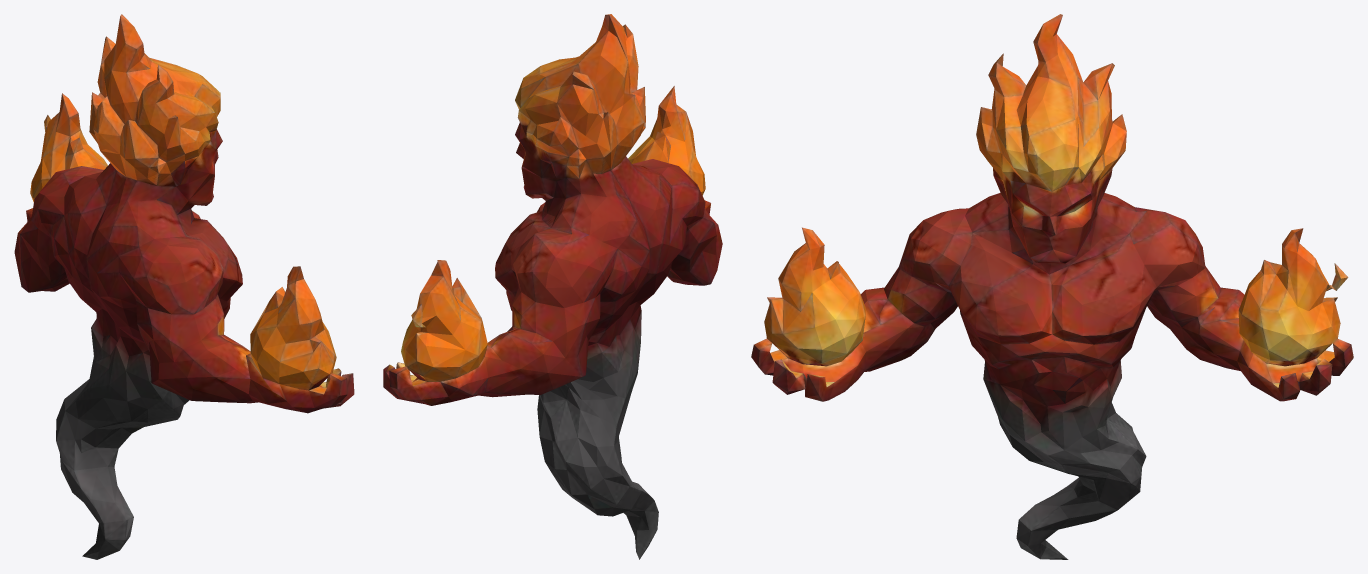
The model's file is foe_cinderDjinn.glb.
The picture shows the model from 3 angles, left to right: view 1: azimuth 30°, elevation 25°; view 2: azimuth 150°, elevation 25°; view 3: azimuth 270°, elevation 25°; orthographic projection. The views are drawn at different scales.
Parts seen in each view (by area): view 1: tripo_node_4e20a631-934a-42c5-b48e-d47f1378e7c4.001; view 2: tripo_node_4e20a631-934a-42c5-b48e-d47f1378e7c4.001; view 3: tripo_node_4e20a631-934a-42c5-b48e-d47f1378e7c4.001.
Boxes of the visible parts, x1=… form: tripo_node_4e20a631-934a-42c5-b48e-d47f1378e7c4.001: x1=14, y1=14, x2=354, y2=559; tripo_node_4e20a631-934a-42c5-b48e-d47f1378e7c4.001: x1=383, y1=14, x2=722, y2=559; tripo_node_4e20a631-934a-42c5-b48e-d47f1378e7c4.001: x1=751, y1=14, x2=1353, y2=559.
Size of the model in its own units: 0.288 by 0.9918 by 0.9605.
Materials: 1 (1 with a texture image).
